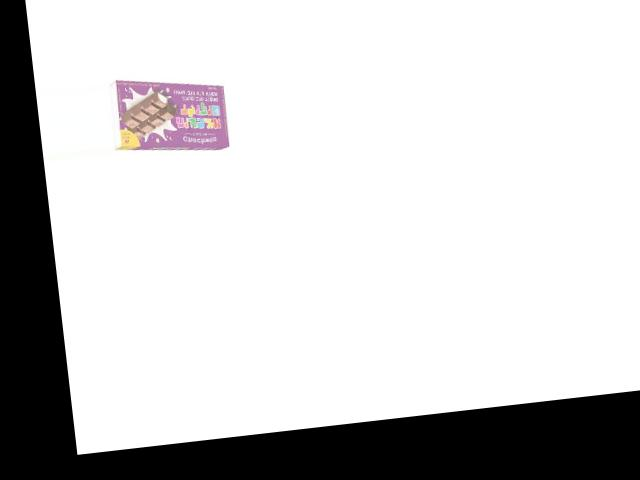chocolate: (106, 72, 238, 161)
